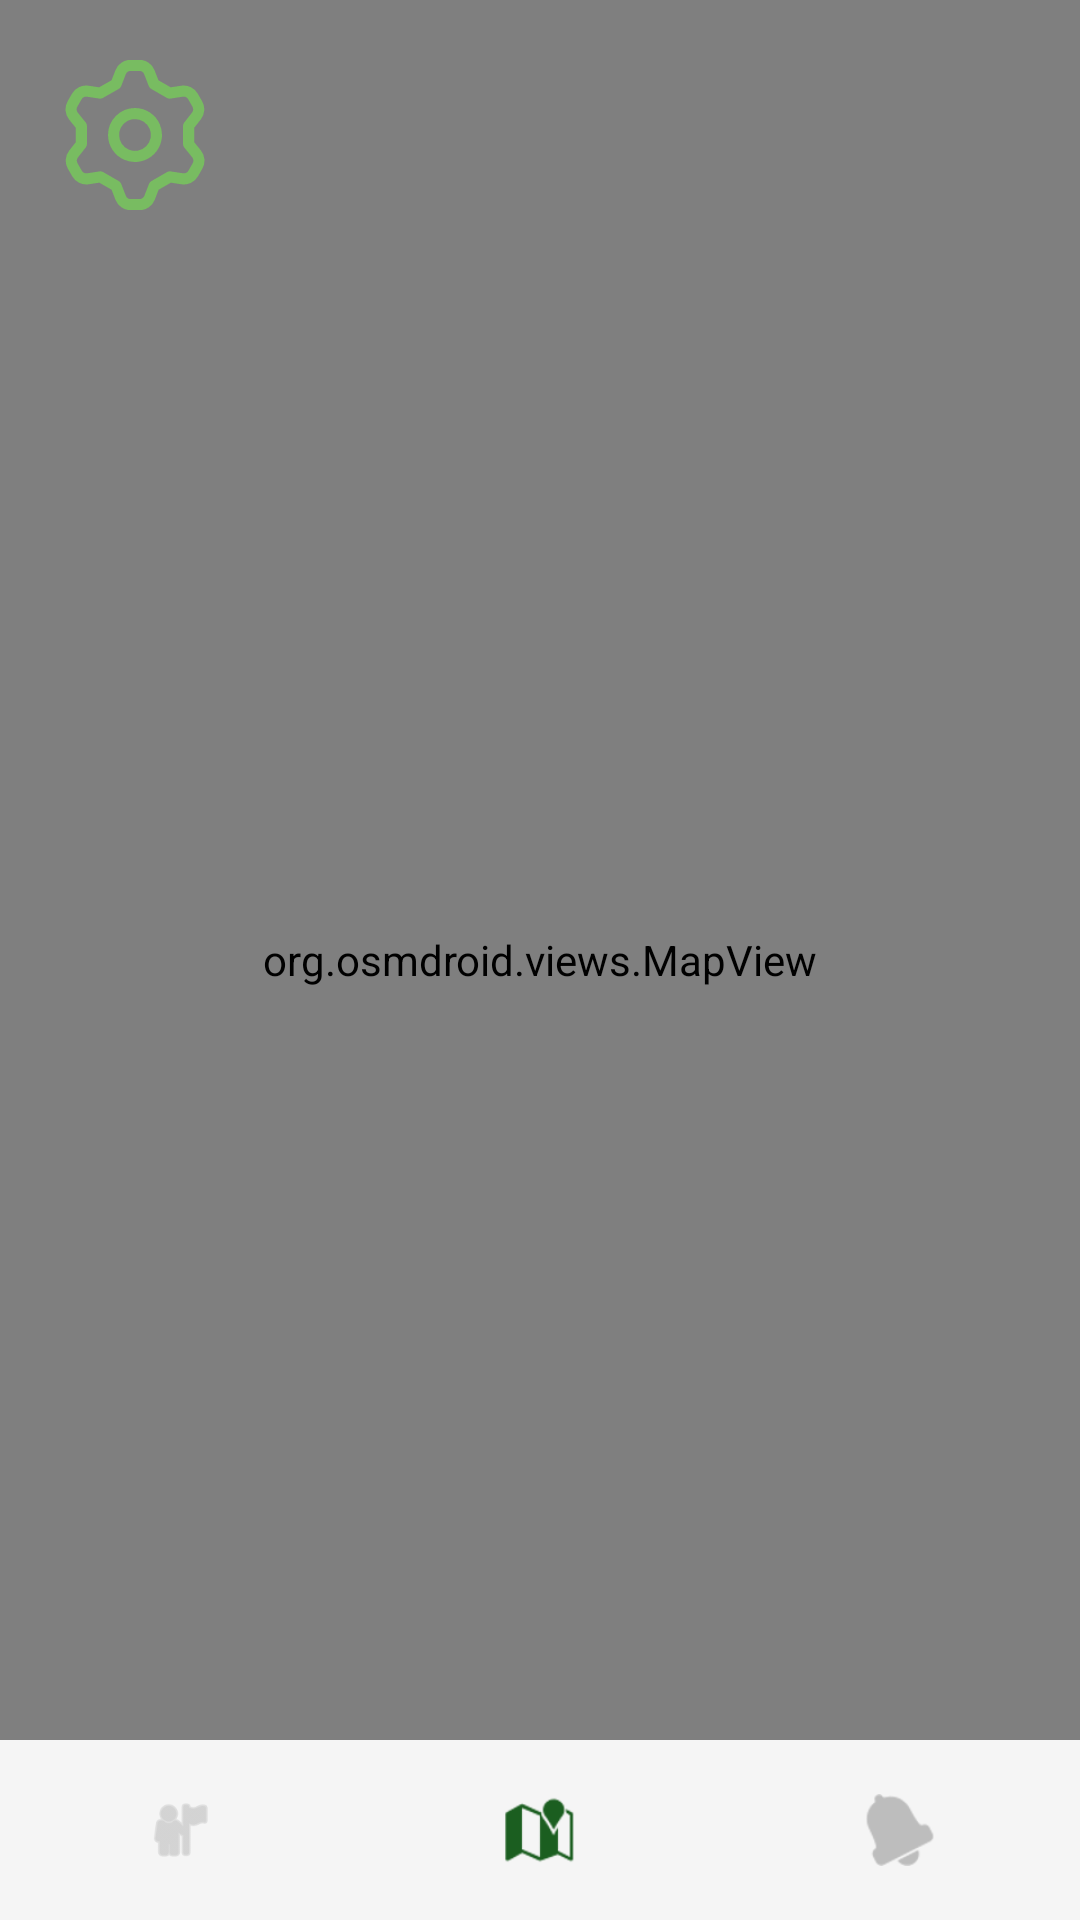

Where to tap for icons on this 1080px x 1920px app screen, as (x,y):
confi: (135,135)
map: (539,1830)
myplaces: (180,1830)
popup reminder: (900,1830)
